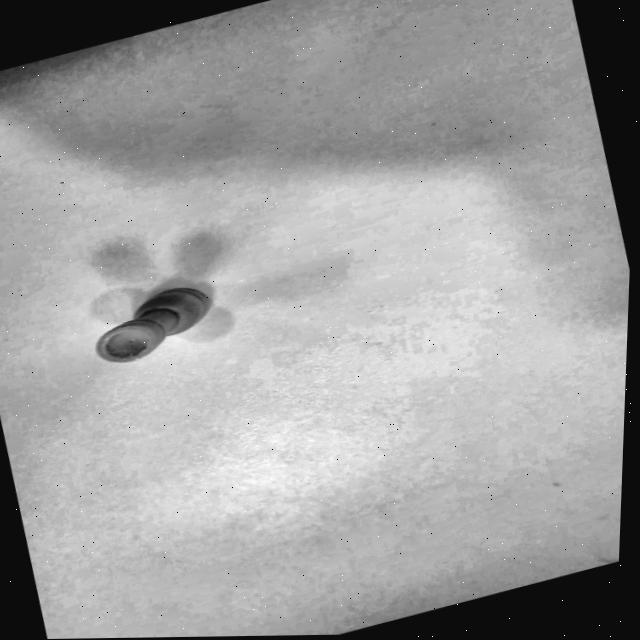white-rook: (58, 231, 274, 389)
